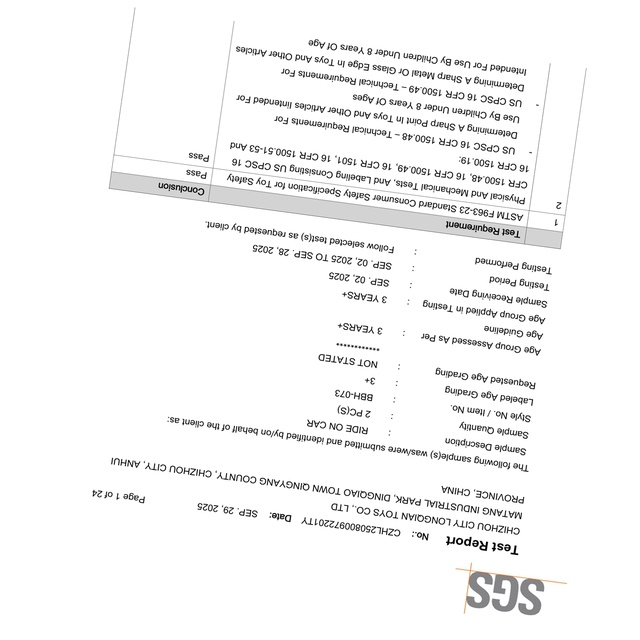sgs: (466, 571, 545, 615)
